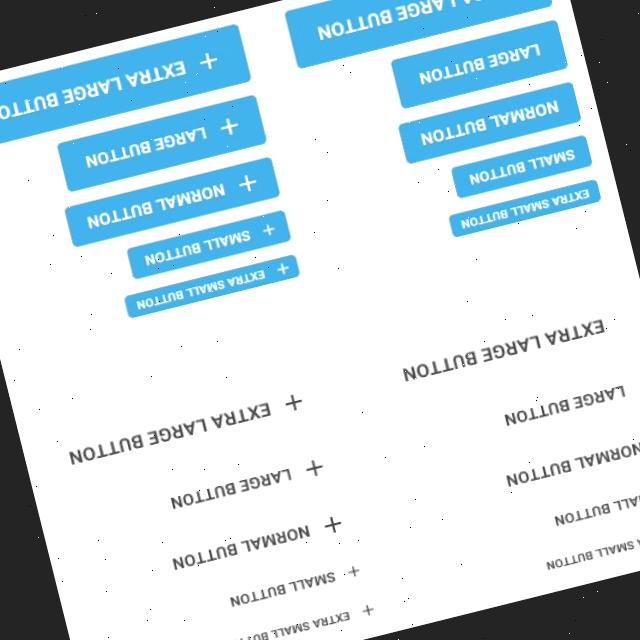QLabel: (396, 316, 610, 386), (67, 399, 279, 466), (0, 56, 192, 125), (311, 0, 522, 43), (86, 179, 235, 230), (417, 98, 564, 148), (171, 522, 316, 571), (502, 439, 640, 488), (454, 186, 595, 232), (134, 266, 269, 312), (499, 382, 632, 428), (82, 123, 212, 170), (414, 40, 546, 86), (168, 466, 298, 510), (463, 146, 580, 188), (140, 226, 257, 268), (224, 569, 340, 609), (543, 527, 640, 571), (219, 609, 352, 640), (551, 488, 640, 528)
VBtn: (34, 364, 338, 494), (0, 20, 254, 154), (368, 288, 640, 412), (54, 92, 269, 195), (138, 433, 354, 535), (62, 154, 282, 250), (149, 496, 367, 590), (284, 0, 555, 69), (388, 17, 570, 111), (396, 78, 584, 166), (475, 360, 640, 451), (482, 421, 640, 505), (123, 207, 293, 282), (122, 252, 301, 320), (210, 550, 378, 621), (449, 132, 595, 200), (447, 176, 603, 238), (208, 594, 386, 640), (534, 475, 640, 540), (532, 519, 640, 580)
VIcon: (302, 456, 326, 478), (284, 391, 306, 412), (218, 115, 240, 136), (198, 50, 220, 71), (322, 514, 344, 534), (238, 172, 258, 192), (360, 602, 377, 618), (275, 260, 291, 276), (346, 564, 362, 578), (262, 221, 276, 236)
